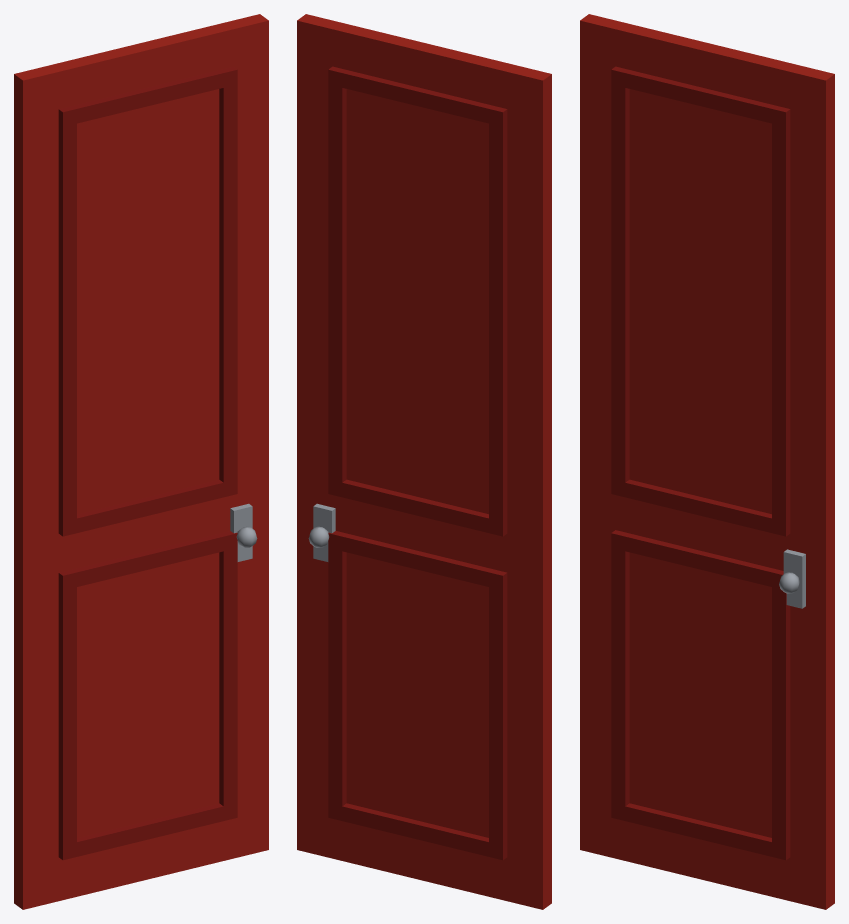
Rendered from SM_Door_slifer_80x255.fbx.
The picture shows the model from 3 angles, left to right: view 1: azimuth 30°, elevation 25°; view 2: azimuth 150°, elevation 25°; view 3: azimuth 330°, elevation 25°; orthographic projection.
Visible parts, largest first — view 1: SM_Door_slifer_80x255; view 2: SM_Door_slifer_80x255; view 3: SM_Door_slifer_80x255.
Part boxes in pixels (bbox=[...]): SM_Door_slifer_80x255: bbox=[14, 14, 268, 909]; SM_Door_slifer_80x255: bbox=[297, 14, 551, 909]; SM_Door_slifer_80x255: bbox=[580, 14, 834, 909].
Bounding box in the file's own units: 0.788 × 2.54 × 0.19.
